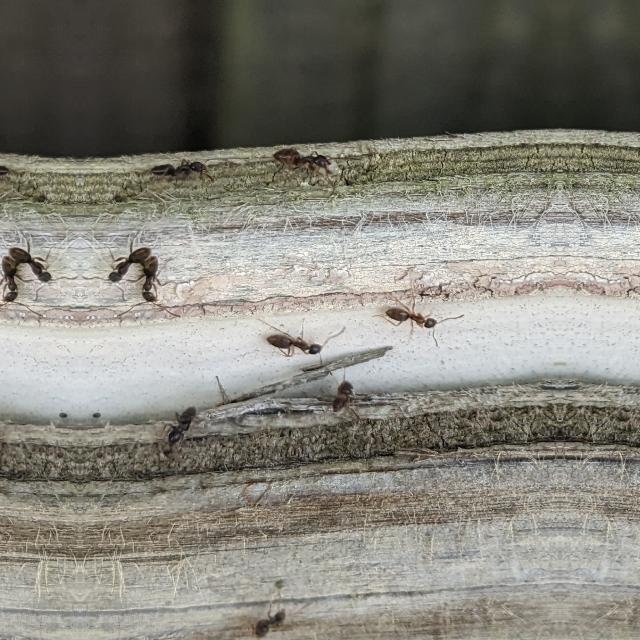Tapinoma: (379, 292, 445, 346), (258, 321, 332, 367), (321, 370, 379, 420), (105, 232, 155, 288), (5, 232, 55, 288), (161, 398, 203, 454), (145, 154, 213, 186), (272, 145, 334, 179), (245, 598, 289, 640), (138, 255, 164, 308), (0, 254, 22, 306), (0, 154, 14, 186)
